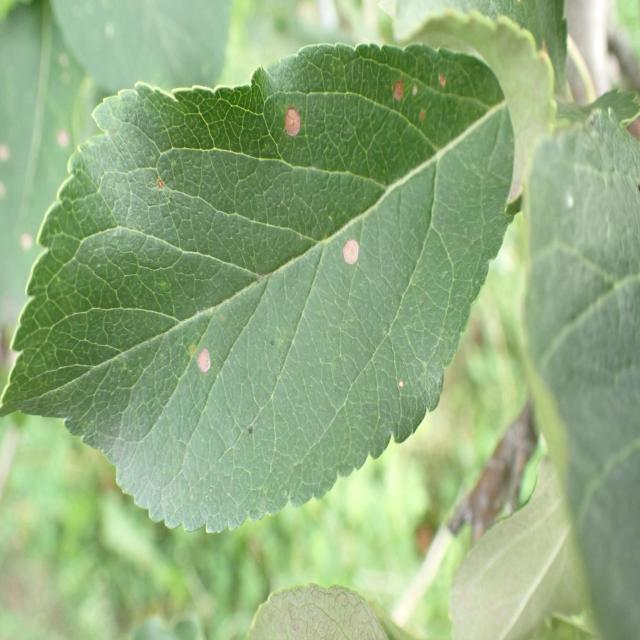Black Rot: (328, 207, 363, 293), (368, 61, 424, 104), (193, 334, 221, 391), (282, 84, 305, 148), (437, 60, 459, 116)
